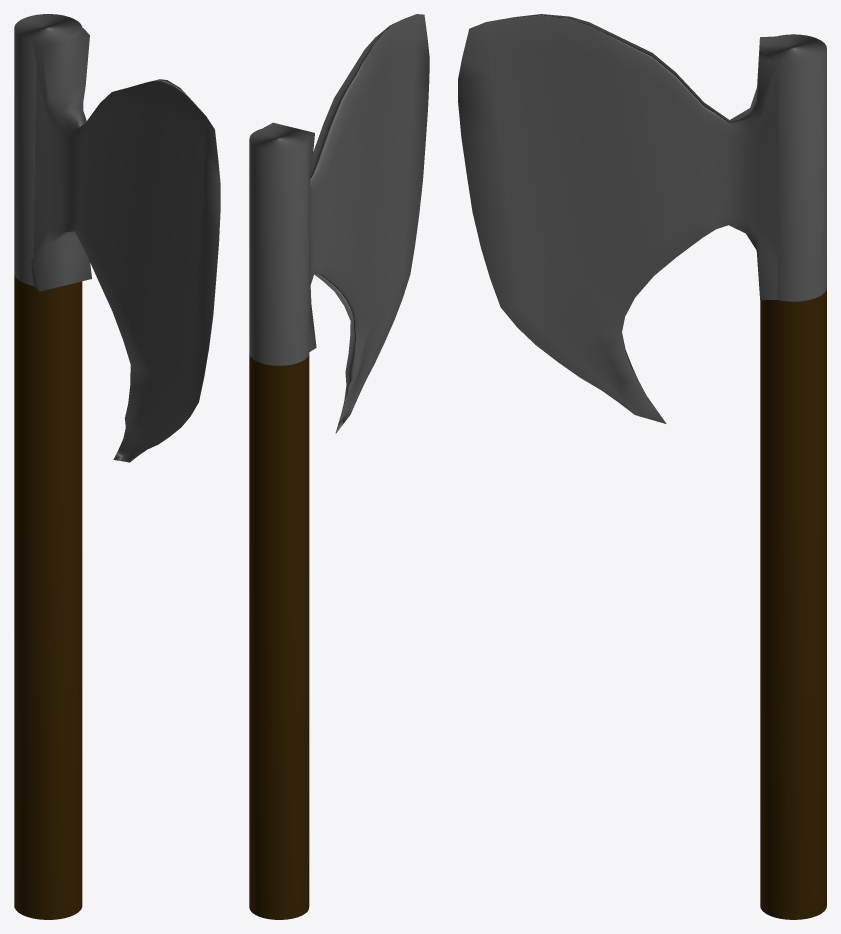
The model's file is vikingAxe.glb.
3 renders of one model, left to right at view 1: azimuth 30°, elevation 25°; view 2: azimuth 150°, elevation 25°; view 3: azimuth 270°, elevation 25°, orthographic. The views are drawn at different scales.
Parts seen in each view (by area): view 1: Cylinder, Cylinder.001; view 2: Cylinder.001, Cylinder; view 3: Cylinder, Cylinder.001.
Part boxes in pixels (left/top/right/bottom): Cylinder: left=31, top=28, right=220, bottom=462; Cylinder.001: left=14, top=14, right=82, bottom=919; Cylinder.001: left=249, top=126, right=309, bottom=919; Cylinder: left=263, top=14, right=429, bottom=433; Cylinder: left=458, top=14, right=777, bottom=423; Cylinder.001: left=760, top=34, right=826, bottom=919.
Size of the model in its own units: 0.3547 by 5.22 by 1.96.
